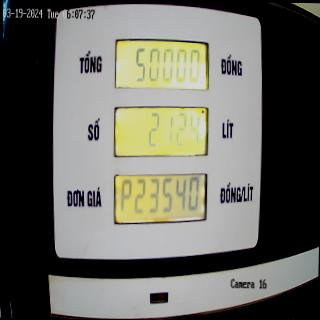screen: (111, 32, 211, 230)
